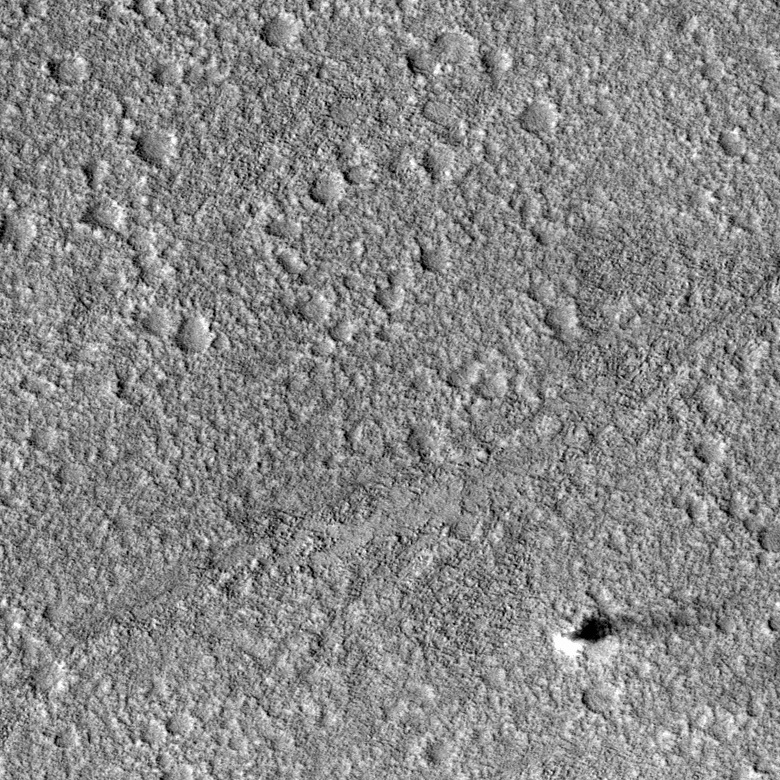dust_devil: (549, 597, 724, 668)
